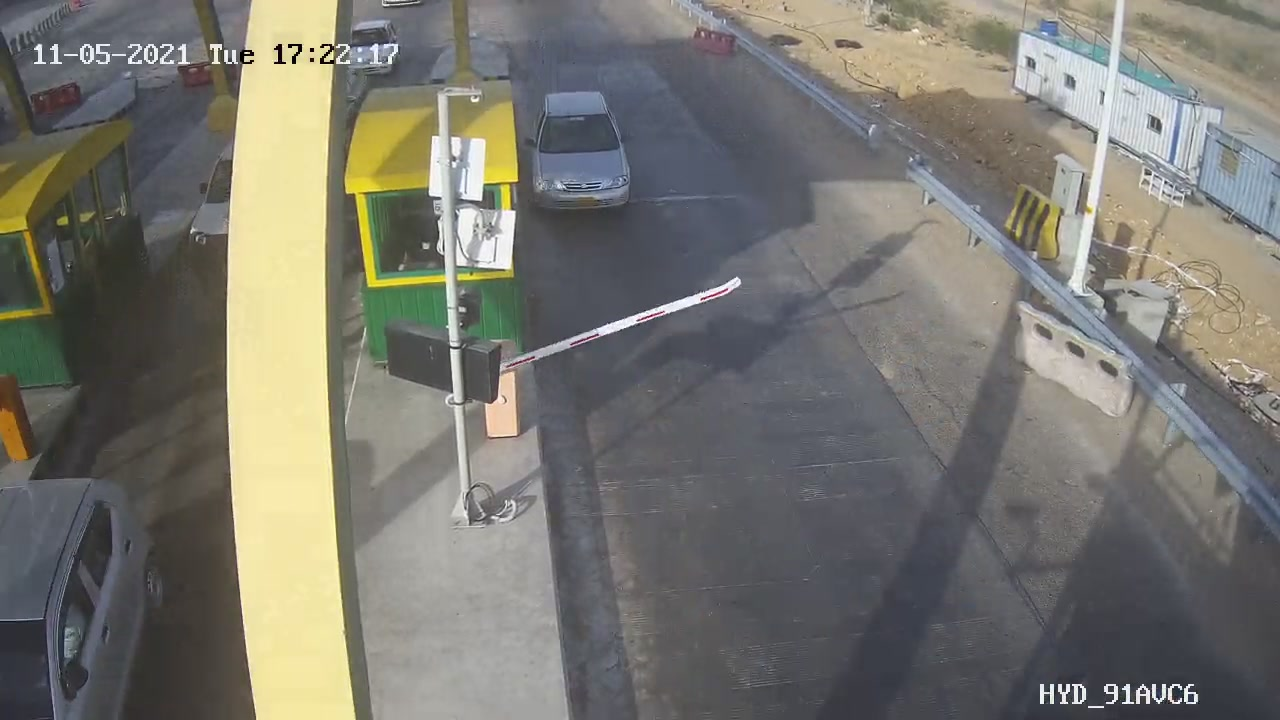F1: (513, 81, 644, 222)
